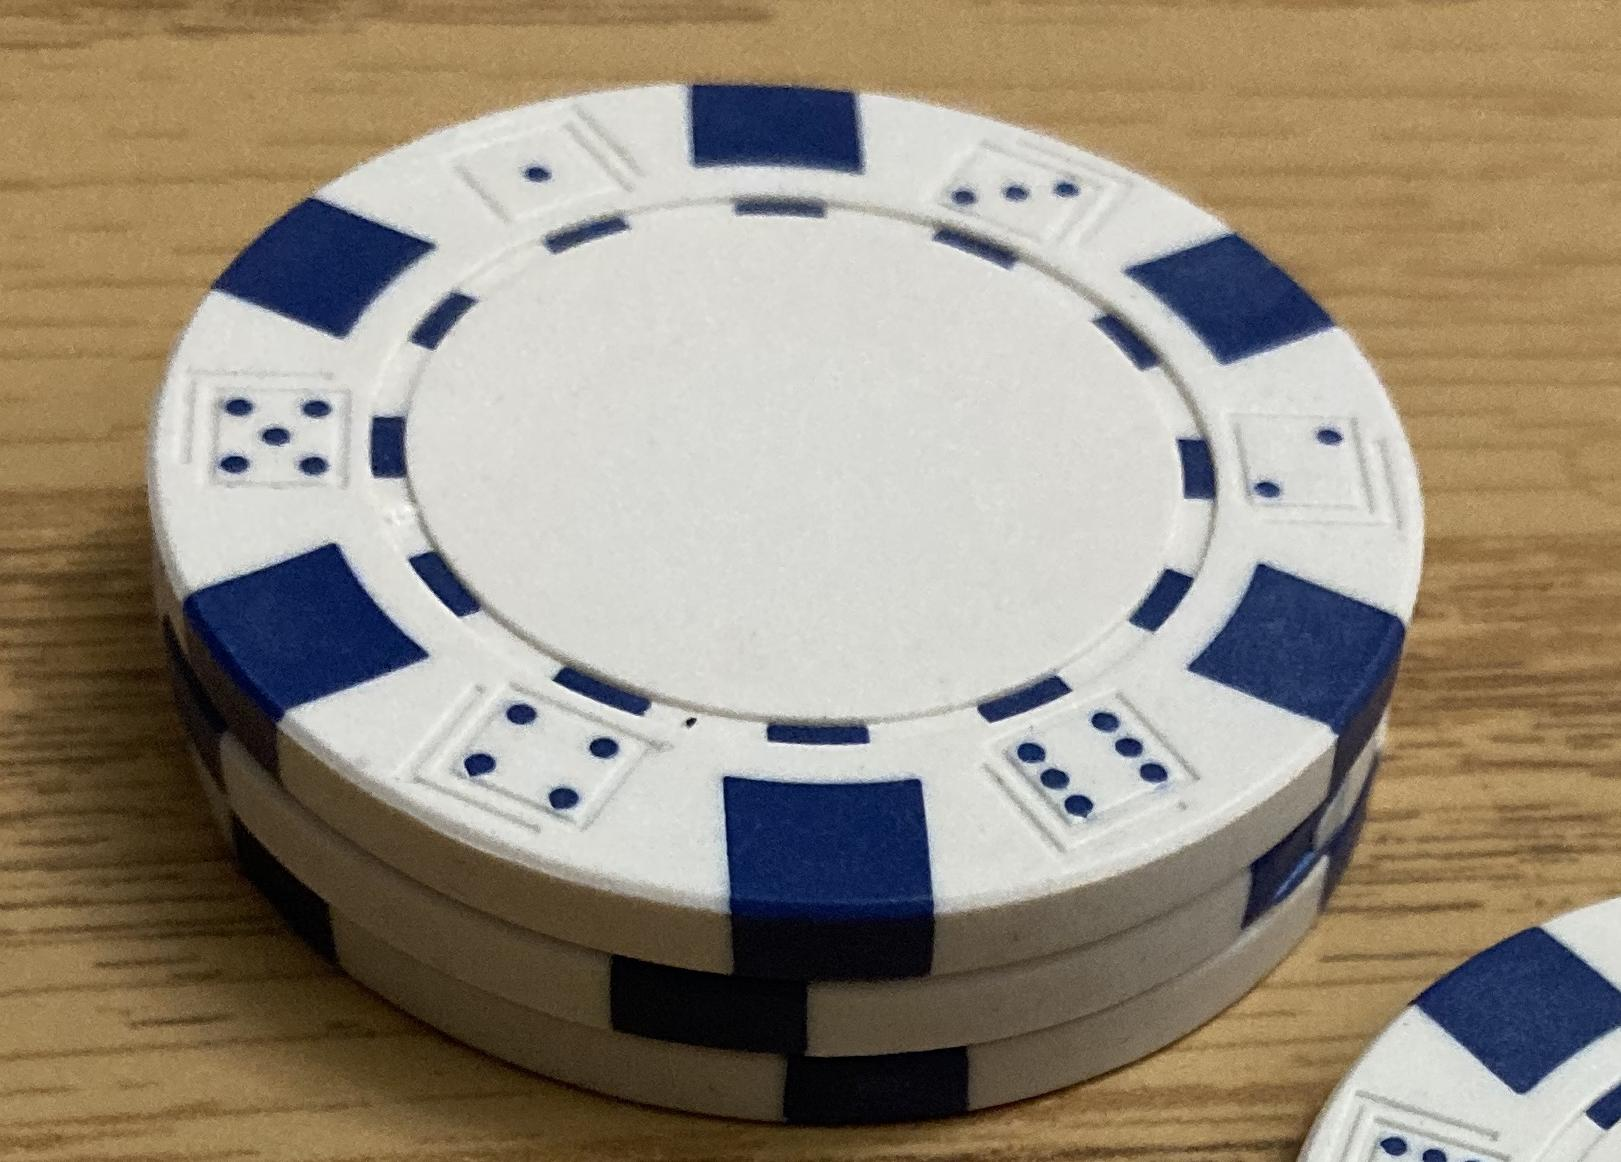Chip: (1, 1, 1621, 1162)
